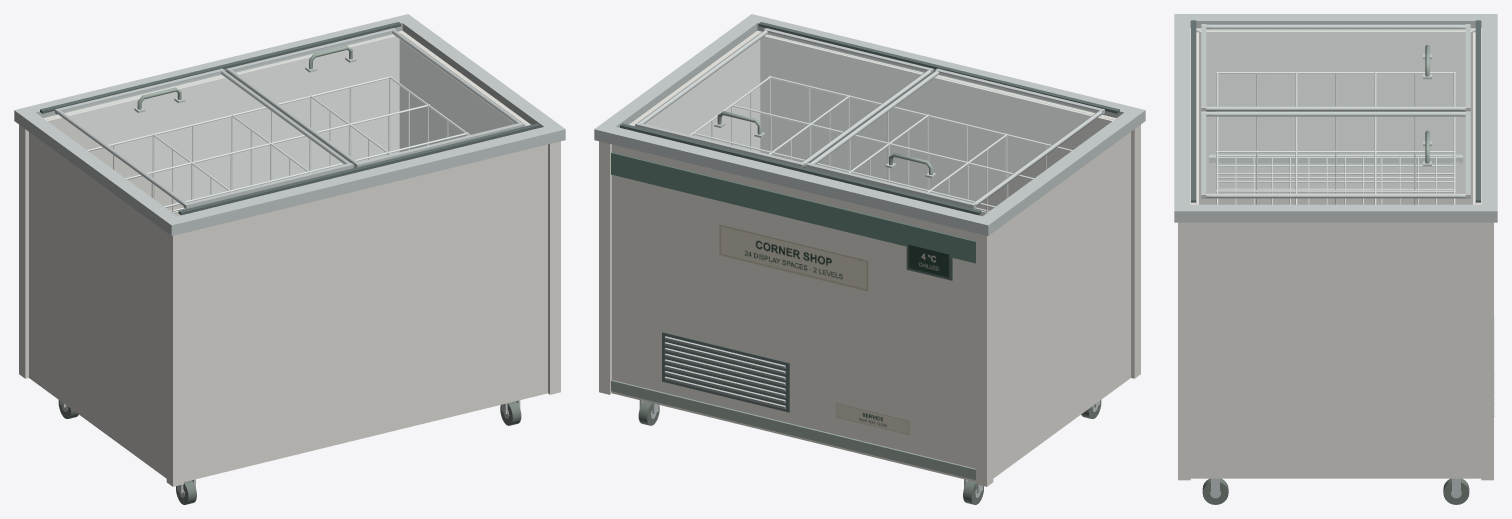
The model's file is chest-chiller-compact.glb.
3 renders of one model, left to right at view 1: azimuth 30°, elevation 25°; view 2: azimuth 150°, elevation 25°; view 3: azimuth 270°, elevation 25°, orthographic. The views are drawn at different scales.
Parts seen in each view (by area): view 1: library-equipment-chest-chiller-compact-product-equipment-cr, library-equipment-chest-chiller-compact-product-equipment-cl, library-equipment-chest-chiller-compact-product-equipment-wh, library-equipment-chest-chiller-compact-product-equipment-st, library-equipment-chest-chiller-compact-product-equipment-ch, library-equipment-chest-chiller-compact-product-equipment-da, library-equipment-chest-chiller-compact-product-equipment-ru; view 2: library-equipment-chest-chiller-compact-product-equipment-cr, library-equipment-chest-chiller-compact-product-equipment-cl, library-equipment-chest-chiller-compact-product-equipment-wh, library-equipment-chest-chiller-compact-product-equipment-st, library-equipment-chest-chiller-compact-chest-chiller-compac (×4), library-equipment-chest-chiller-compact-product-equipment-da, library-equipment-chest-chiller-compact-product-equipment-ch, library-equipment-chest-chiller-compact-product-equipment-sa, library-equipment-chest-chiller-compact-product-equipment-ru; view 3: library-equipment-chest-chiller-compact-product-equipment-cr, library-equipment-chest-chiller-compact-product-equipment-cl, library-equipment-chest-chiller-compact-product-equipment-wh, library-equipment-chest-chiller-compact-product-equipment-st, library-equipment-chest-chiller-compact-product-equipment-ch, library-equipment-chest-chiller-compact-product-equipment-da, library-equipment-chest-chiller-compact-product-equipment-ru.
Boxes of the visible parts, x1,y1,x2,y2 form: library-equipment-chest-chiller-compact-product-equipment-cr: [19, 30, 560, 486]; library-equipment-chest-chiller-compact-product-equipment-cl: [64, 32, 515, 202]; library-equipment-chest-chiller-compact-product-equipment-wh: [46, 35, 525, 216]; library-equipment-chest-chiller-compact-product-equipment-st: [14, 14, 565, 497]; library-equipment-chest-chiller-compact-product-equipment-ch: [87, 76, 478, 213]; library-equipment-chest-chiller-compact-product-equipment-da: [40, 22, 539, 215]; library-equipment-chest-chiller-compact-product-equipment-ru: [58, 70, 521, 504]; library-equipment-chest-chiller-compact-product-equipment-cr: [599, 30, 1140, 486]; library-equipment-chest-chiller-compact-product-equipment-cl: [644, 32, 1095, 202]; library-equipment-chest-chiller-compact-product-equipment-wh: [634, 35, 1113, 216]; library-equipment-chest-chiller-compact-product-equipment-st: [594, 14, 1145, 497]; library-equipment-chest-chiller-compact-chest-chiller-compac (×4): [611, 152, 975, 435]; library-equipment-chest-chiller-compact-product-equipment-da: [620, 22, 1119, 412]; library-equipment-chest-chiller-compact-product-equipment-ch: [681, 76, 1072, 213]; library-equipment-chest-chiller-compact-product-equipment-sa: [611, 111, 975, 480]; library-equipment-chest-chiller-compact-product-equipment-ru: [638, 70, 1101, 504]; library-equipment-chest-chiller-compact-product-equipment-cr: [1178, 28, 1493, 480]; library-equipment-chest-chiller-compact-product-equipment-cl: [1206, 28, 1465, 193]; library-equipment-chest-chiller-compact-product-equipment-wh: [1196, 31, 1475, 204]; library-equipment-chest-chiller-compact-product-equipment-st: [1174, 14, 1497, 498]; library-equipment-chest-chiller-compact-product-equipment-ch: [1216, 71, 1455, 204]; library-equipment-chest-chiller-compact-product-equipment-da: [1191, 20, 1480, 202]; library-equipment-chest-chiller-compact-product-equipment-ru: [1202, 111, 1469, 504].
Bounding box in the file's own units: 1.3 × 0.9997 × 0.9.
13 materials, 3 textured.
